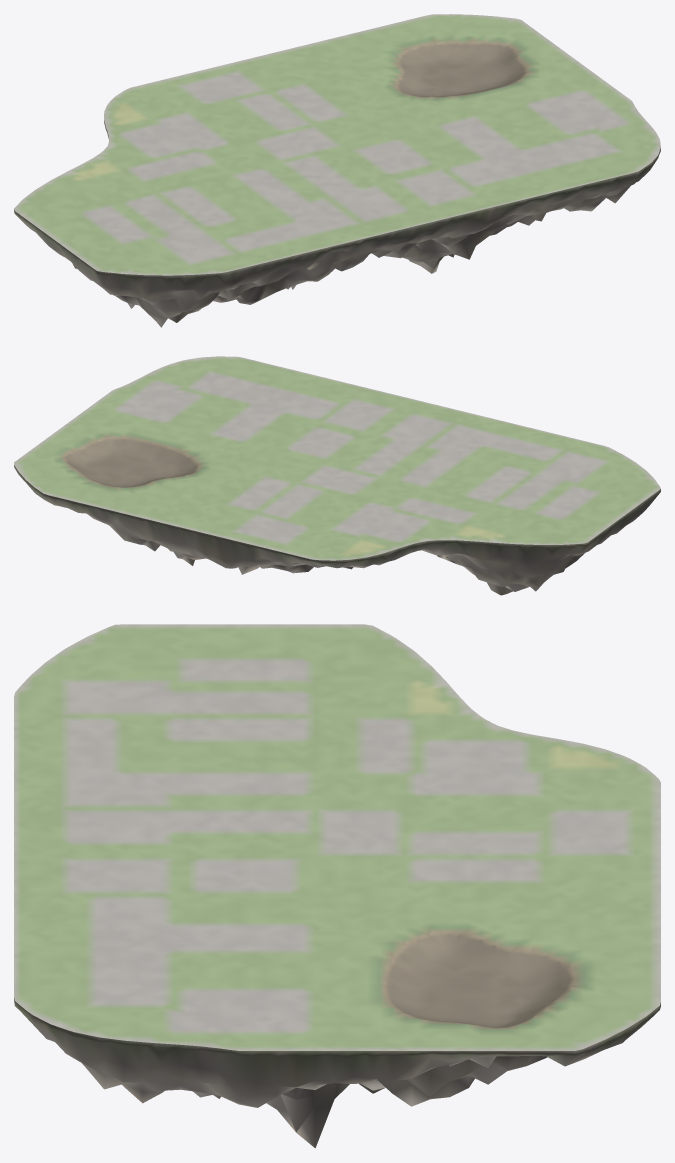
Rendered from SKY-051.rock.glb.
3 views of the same model, one above another, from view 1: azimuth 30°, elevation 25°; view 2: azimuth 150°, elevation 25°; view 3: azimuth 270°, elevation 25° (orthographic). The views are drawn at different scales.
Visible parts, largest first — view 1: deck-col, rock; view 2: deck-col, rock; view 3: deck-col, rock.
Part boxes in pixels (x1,y1,x2,y2): deck-col: (14, 14, 660, 275); rock: (14, 120, 660, 327); deck-col: (14, 356, 660, 560); rock: (14, 465, 660, 595); deck-col: (14, 624, 660, 1050); rock: (14, 998, 660, 1148).
Bounding box in the file's own units: 315 × 77.23 × 202.
